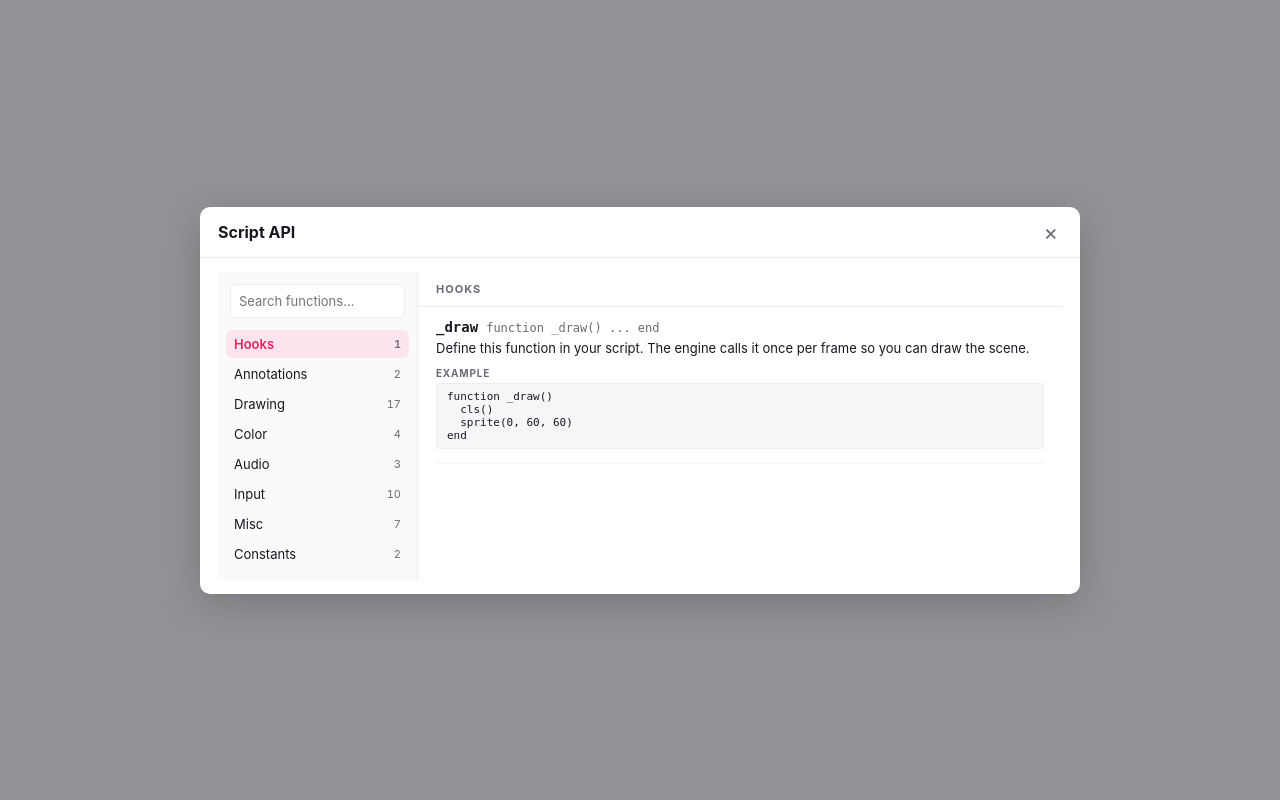
Test: ScriptApiModal — search › filters the right pane to matching entries in the active category
Click the tab "Drawing 17" at [318, 404], box [226, 390, 409, 418]
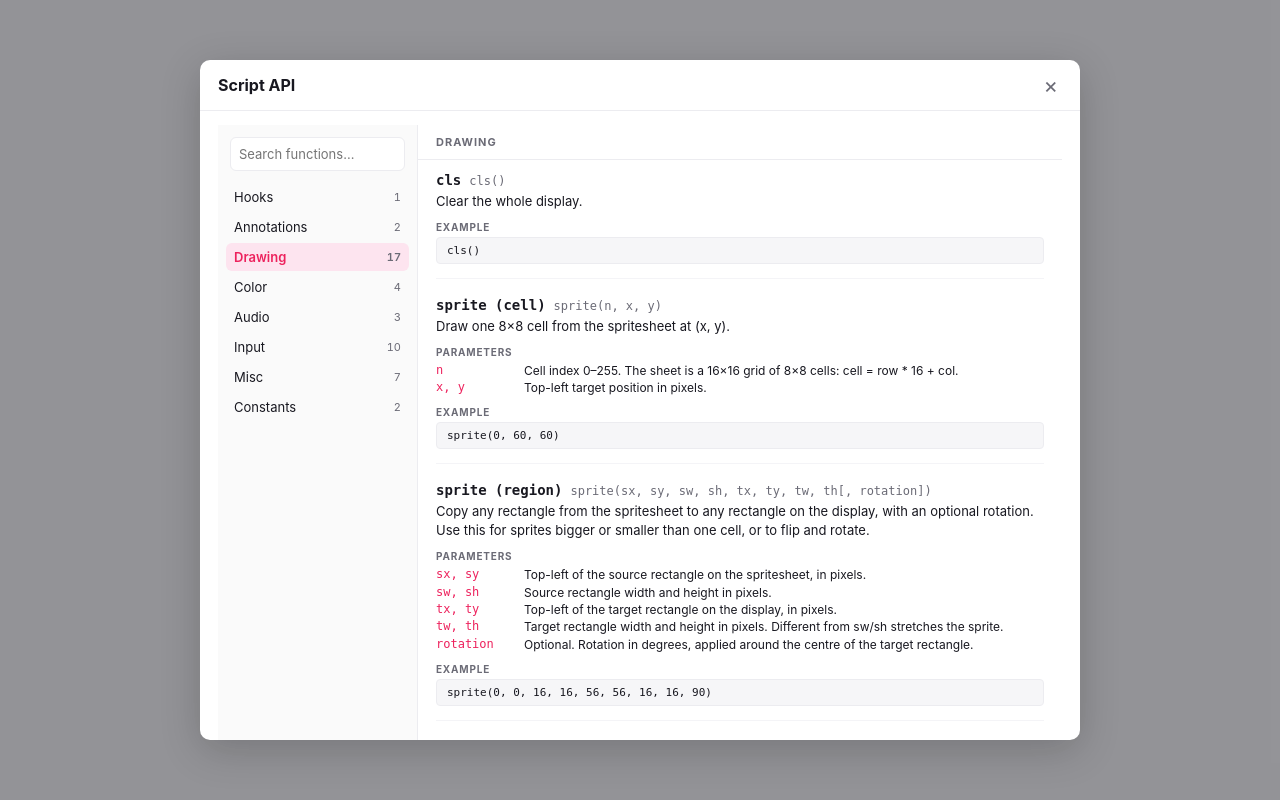
Type "sprite" into the search field at [318, 154], box [230, 137, 405, 171]
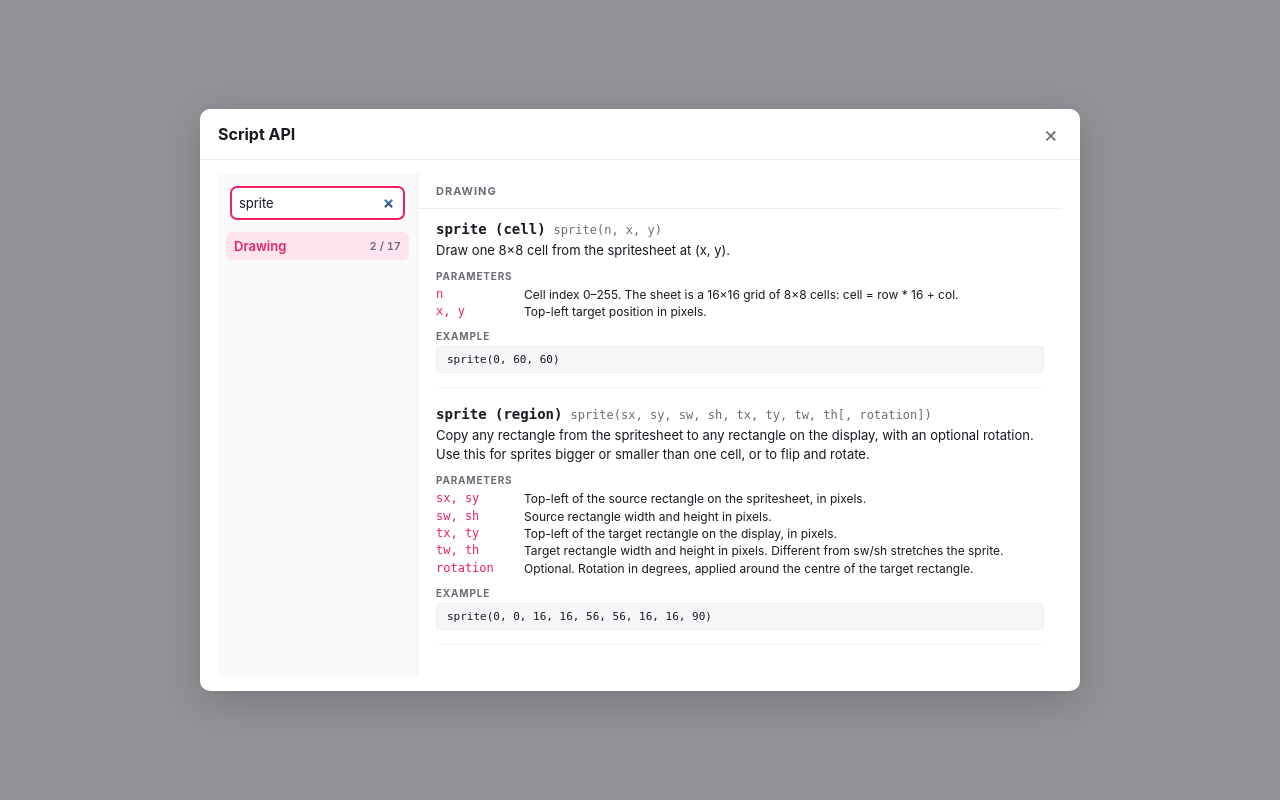
Check: the text "sprite (cell)" is shown, box [436, 221, 546, 237]
Check: the text "sprite (region)" is shown, box [436, 406, 562, 422]
Check: the text "cls" is gone
